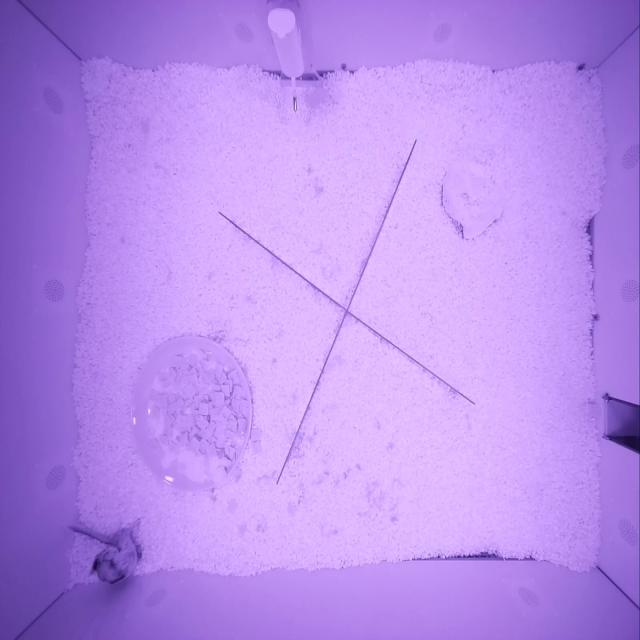adult_front: (90, 520, 141, 586)
